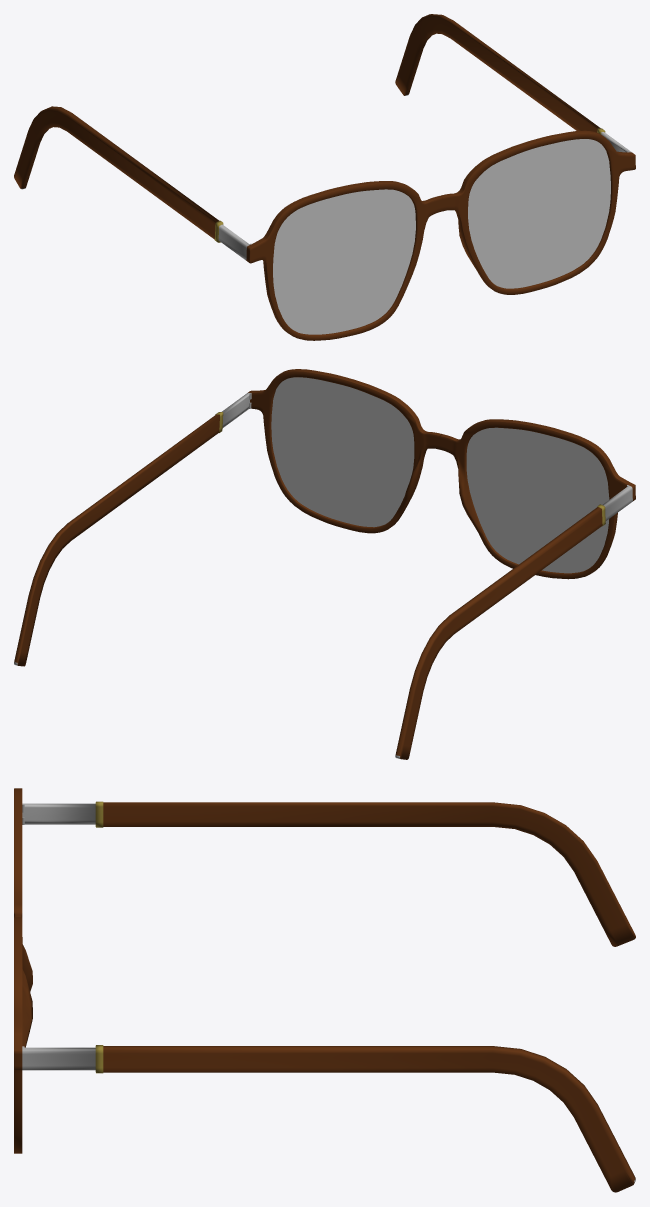
3 views of the same model, one above another, from view 1: azimuth 30°, elevation 25°; view 2: azimuth 150°, elevation 25°; view 3: azimuth 270°, elevation 25° (orthographic). The views are drawn at different scales.
Parts seen in each view (by area): view 1: f10; view 2: f10; view 3: f10.
Part boxes in pixels (box(x1,y1,x2,y2)): f10: box(14, 14, 635, 340); f10: box(14, 369, 635, 759); f10: box(14, 788, 635, 1192).
Size of the model in its own units: 14.1 by 5.17 by 14.87.
